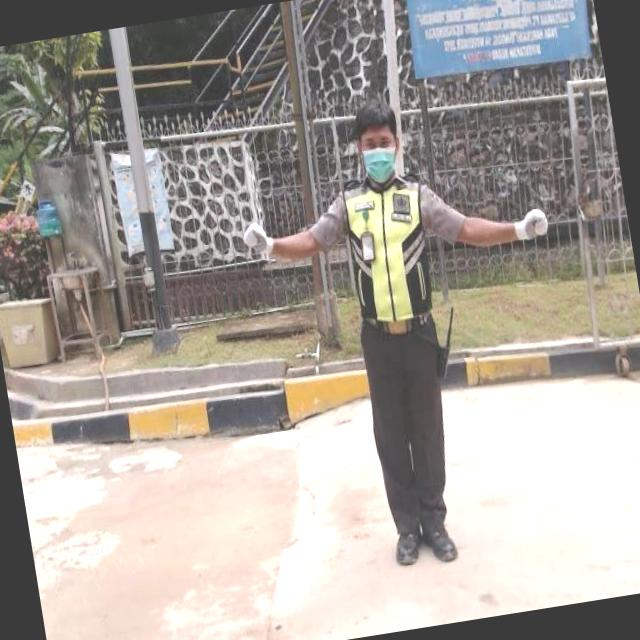vest: (329, 169, 448, 330)
